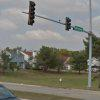Traffic light: (19, 0, 47, 32)
